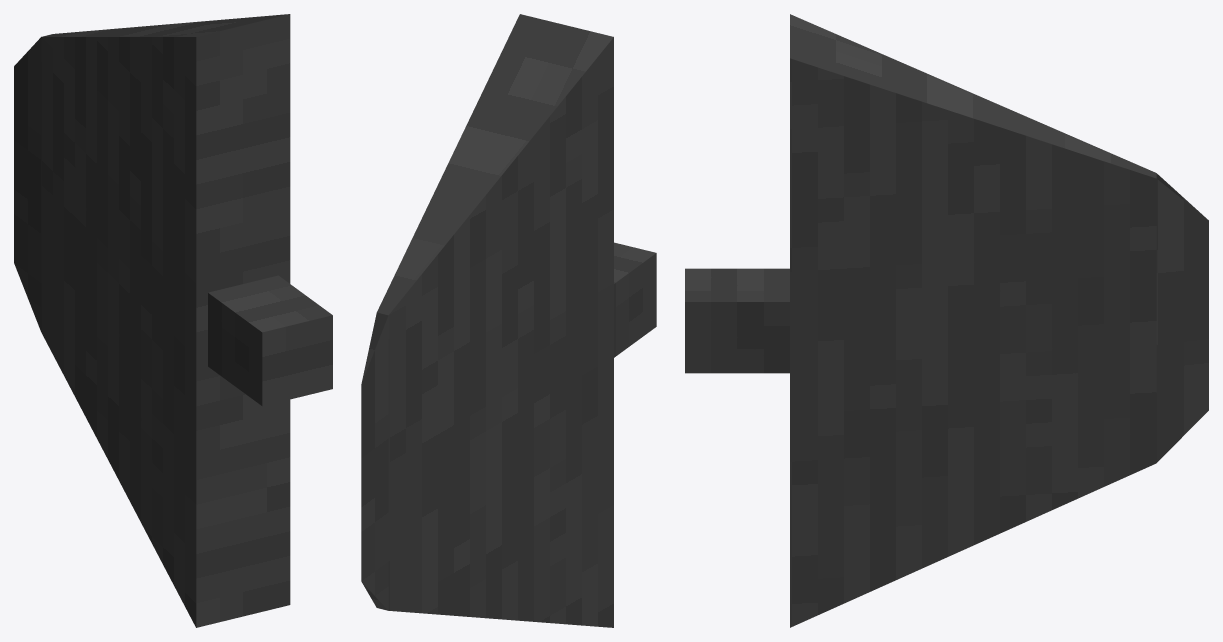
The model's file is stoneHandShovel.obj.
The picture shows the model from 3 angles, left to right: view 1: azimuth 30°, elevation 25°; view 2: azimuth 150°, elevation 25°; view 3: azimuth 270°, elevation 25°; orthographic projection. The views are drawn at different scales.
Visible parts, largest first — view 1: 2-southFace, 2-bottomFace, 2-eastFace; view 2: 2-southFace, 2-eastFace; view 3: 2-northFace, 2-eastFace.
Boxes of the visible parts, <box> form: 2-southFace: <box>14,37,262,627</box>; 2-bottomFace: <box>196,14,332,627</box>; 2-eastFace: <box>41,14,332,332</box>; 2-southFace: <box>361,37,656,627</box>; 2-eastFace: <box>361,14,655,382</box>; 2-northFace: <box>685,58,1208,627</box>; 2-eastFace: <box>685,14,1206,301</box>.
Bounding box in the file's own units: 0.125 × 0.75 × 0.625.
2 materials, 2 textured.
